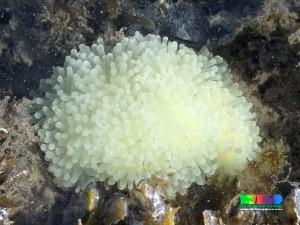bleached_corals: (15, 2, 271, 225)
